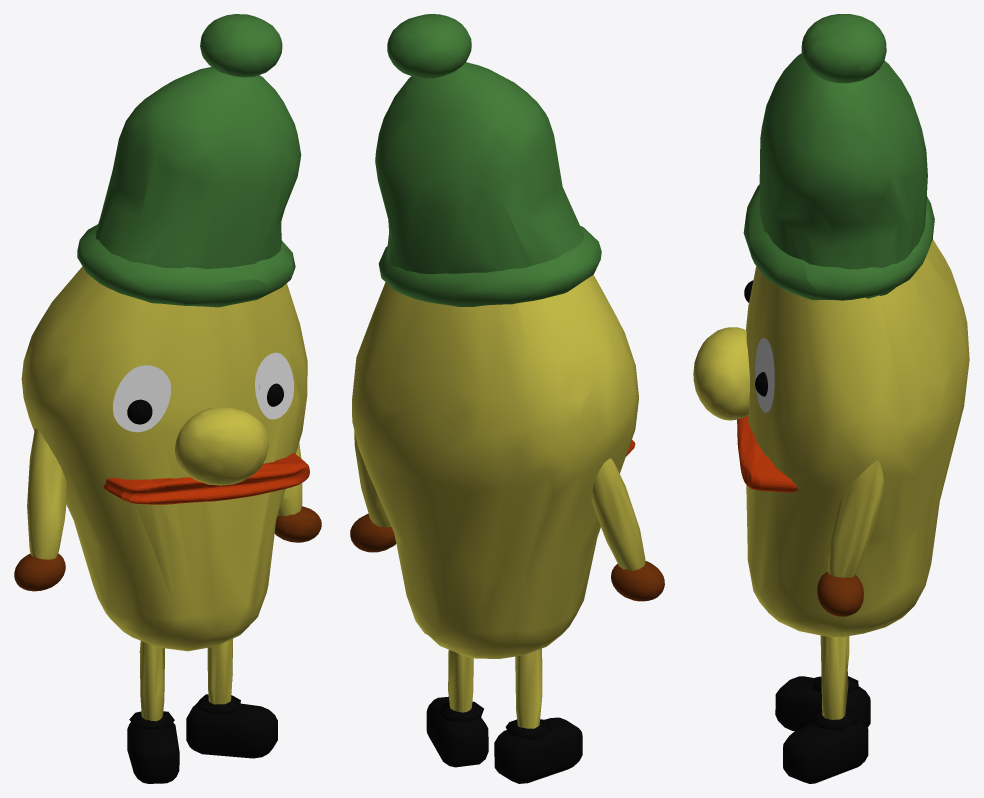
Rendered from tupel.gltf.
The picture shows the model from 3 angles, left to right: view 1: azimuth 30°, elevation 25°; view 2: azimuth 150°, elevation 25°; view 3: azimuth 270°, elevation 25°; orthographic projection. The views are drawn at different scales.
Visible parts, largest first — view 1: Cube.002_Cube.006, Cube.003_Cube.007, Cube.005_Cube.009, Cube.006_Cube.010, Sphere.002, Cube.004_Cube.008, Schuh.001_Cube.004, Cube.009_Cube.013, Schuh_Cube.003, Plane_Plane.006, Cube_Cube.002, Plane.001_Plane.007 (+4 smaller); view 2: Cube.002_Cube.006, Cube.003_Cube.007, Cube.005_Cube.009, Cube.004_Cube.008, Schuh_Cube.003, Cube.009_Cube.013, Schuh.001_Cube.004, Cube_Cube.002, Cube.010_Cube.014, Cube.001_Cube.005, Cube.011_Cube.015, Cube.008_Cube.012 (+2 smaller); view 3: Cube.002_Cube.006, Cube.003_Cube.007, Cube.005_Cube.009, Cube.004_Cube.008, Cube.006_Cube.010, Schuh.001_Cube.004, Cube.008_Cube.012, Schuh_Cube.003, Sphere.002, Cube.001_Cube.005, Cube.011_Cube.015, Plane.001_Plane.007 (+1 smaller).
Boxes of the visible parts, x1=… form: Cube.002_Cube.006: x1=21, y1=266, x2=307, y2=651; Cube.003_Cube.007: x1=95, y1=67, x2=301, y2=268; Cube.005_Cube.009: x1=77, y1=224, x2=295, y2=307; Cube.006_Cube.010: x1=175, y1=407, x2=268, y2=485; Sphere.002: x1=103, y1=453, x2=309, y2=504; Cube.004_Cube.008: x1=200, y1=14, x2=282, y2=77; Schuh.001_Cube.004: x1=186, y1=703, x2=277, y2=758; Cube.009_Cube.013: x1=27, y1=428, x2=66, y2=559; Schuh_Cube.003: x1=127, y1=722, x2=179, y2=783; Plane_Plane.006: x1=113, y1=365, x2=170, y2=432; Cube_Cube.002: x1=139, y1=641, x2=164, y2=721; Plane.001_Plane.007: x1=255, y1=352, x2=293, y2=419; Cube.002_Cube.006: x1=352, y1=275, x2=638, y2=658; Cube.003_Cube.007: x1=375, y1=62, x2=584, y2=274; Cube.005_Cube.009: x1=378, y1=226, x2=601, y2=306; Cube.004_Cube.008: x1=387, y1=14, x2=471, y2=78; Schuh_Cube.003: x1=494, y1=717, x2=582, y2=783; Cube.009_Cube.013: x1=591, y1=458, x2=645, y2=570; Schuh.001_Cube.004: x1=426, y1=696, x2=488, y2=767; Cube_Cube.002: x1=515, y1=648, x2=542, y2=728; Cube.010_Cube.014: x1=611, y1=561, x2=664, y2=601; Cube.001_Cube.005: x1=448, y1=650, x2=473, y2=712; Cube.011_Cube.015: x1=350, y1=513, x2=396, y2=552; Cube.008_Cube.012: x1=354, y1=431, x2=391, y2=527; Cube.002_Cube.006: x1=746, y1=239, x2=969, y2=636; Cube.003_Cube.007: x1=759, y1=53, x2=927, y2=298; Cube.005_Cube.009: x1=743, y1=184, x2=934, y2=300; Cube.004_Cube.008: x1=801, y1=14, x2=886, y2=83; Cube.006_Cube.010: x1=693, y1=327, x2=749, y2=420; Schuh.001_Cube.004: x1=783, y1=719, x2=868, y2=783; Cube.008_Cube.012: x1=828, y1=460, x2=884, y2=577; Schuh_Cube.003: x1=775, y1=676, x2=870, y2=731; Sphere.002: x1=737, y1=415, x2=798, y2=492; Cube.001_Cube.005: x1=820, y1=635, x2=848, y2=719; Cube.011_Cube.015: x1=817, y1=571, x2=863, y2=616; Plane.001_Plane.007: x1=755, y1=338, x2=774, y2=412.
Bounding box in the file's own units: 3.67 × 8.37 × 2.75.
